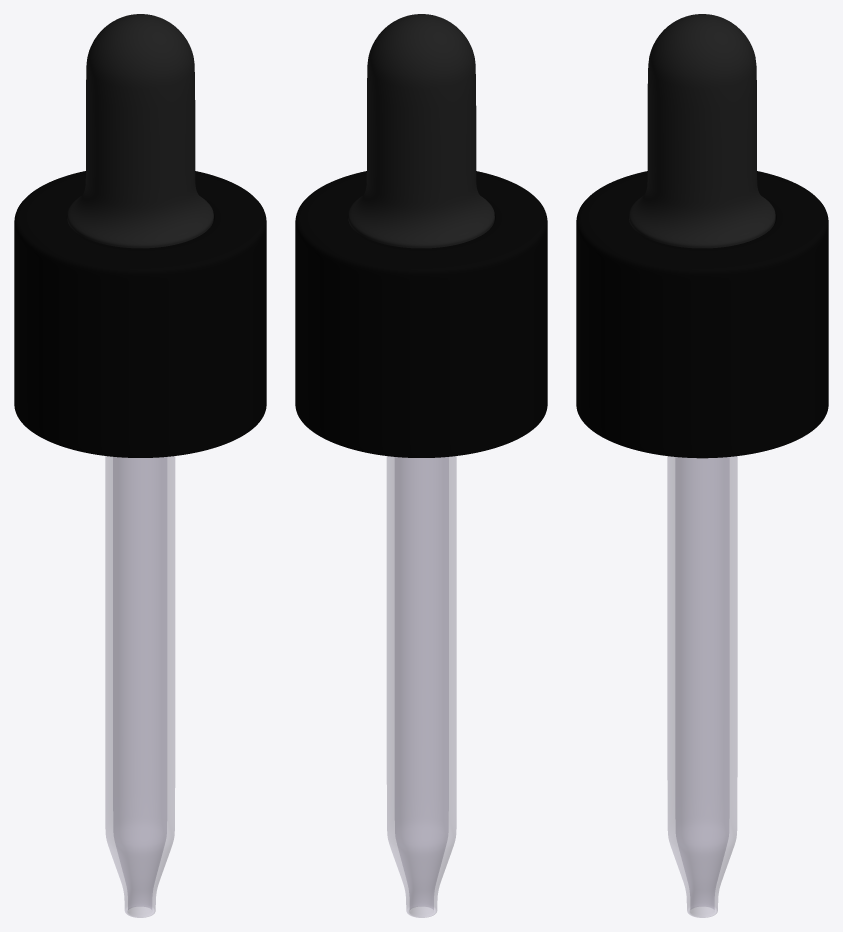
File: 30gCap2.gltf
The picture shows the model from 3 angles, left to right: view 1: azimuth 30°, elevation 25°; view 2: azimuth 150°, elevation 25°; view 3: azimuth 270°, elevation 25°; orthographic projection.
Visible parts, largest first — view 1: Cap, DropperPipe, DropperTop; view 2: Cap, DropperPipe, DropperTop; view 3: Cap, DropperPipe, DropperTop.
Boxes of the visible parts, x1,y1,x2,y2 form: Cap: (14,171,266,457); DropperPipe: (105,456,174,917); DropperTop: (67,14,213,248); Cap: (295,171,547,457); DropperPipe: (387,456,456,917); DropperTop: (348,14,494,248); Cap: (576,171,828,458); DropperPipe: (667,456,737,917); DropperTop: (629,14,775,248).
Size of the model in its own units: 0.2901 by 1.13 by 0.2901.
